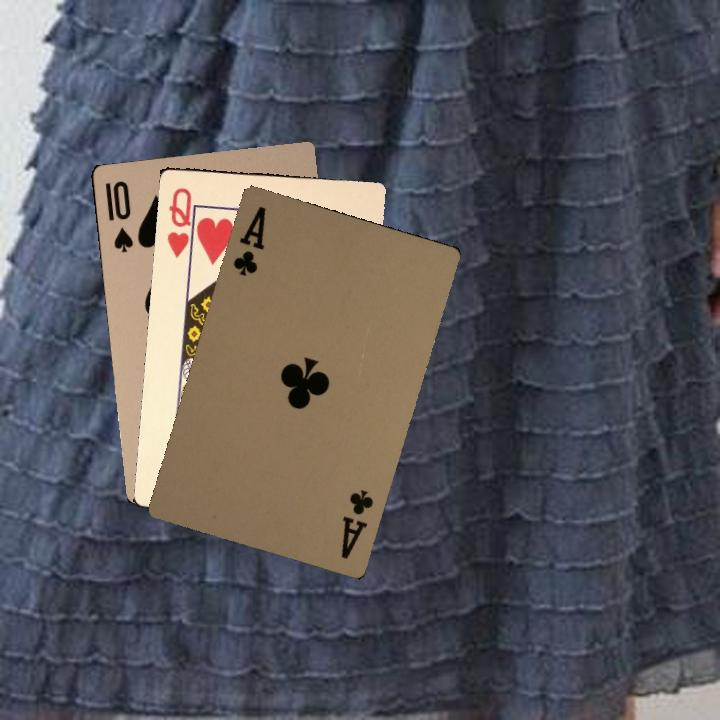10s: (101, 176, 136, 255)
Ac: (229, 202, 268, 279), (337, 486, 376, 562)
Qh: (163, 183, 200, 260)
